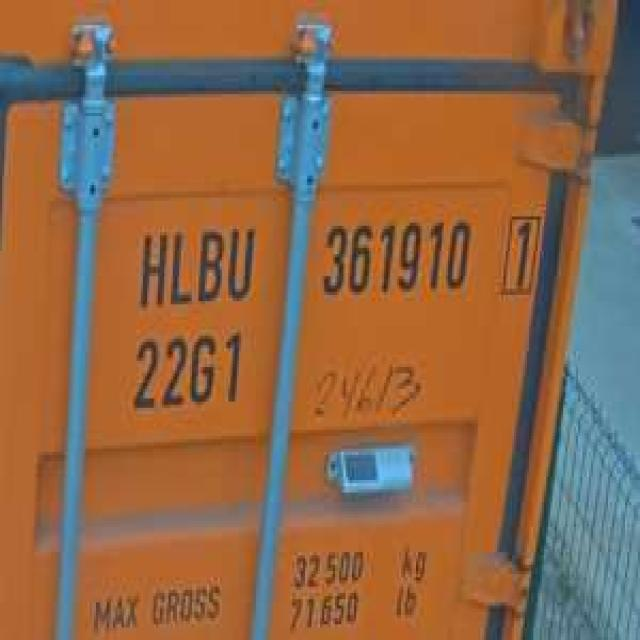dv: (497, 204, 546, 301)
owner: (132, 216, 258, 308)
serial: (316, 210, 474, 304)
size: (126, 323, 247, 417)
